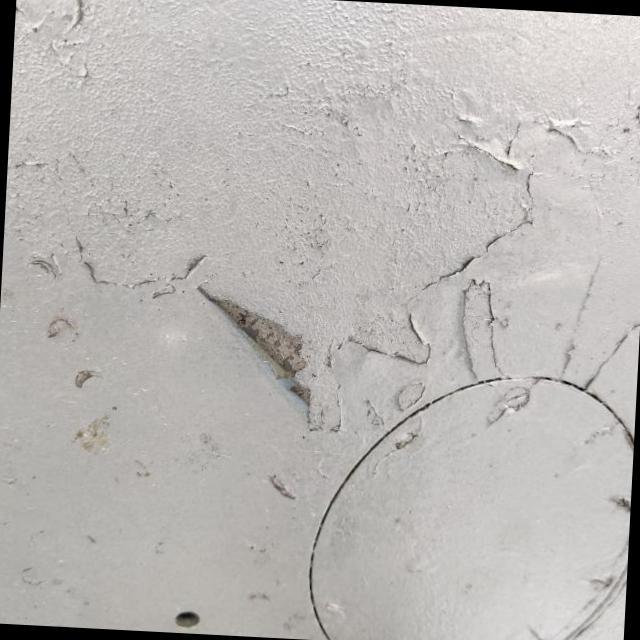Missing Fastener: (169, 595, 205, 633)
